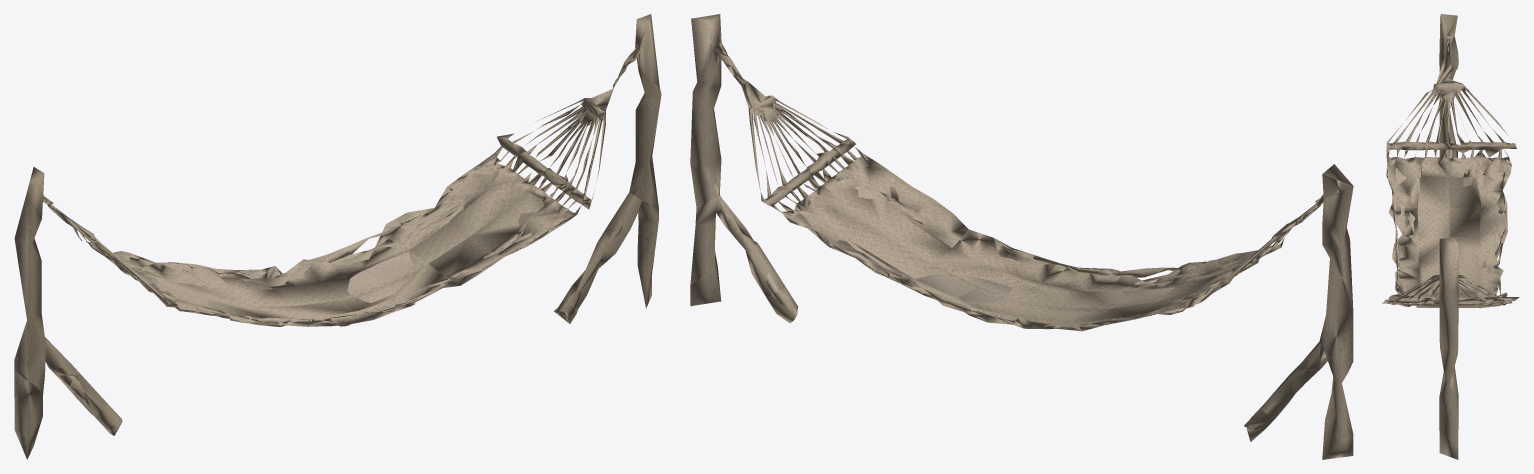
File: hammock_lod1.glb
3 views of the same model, side by side, from view 1: azimuth 30°, elevation 25°; view 2: azimuth 150°, elevation 25°; view 3: azimuth 270°, elevation 25° (orthographic). The views are drawn at different scales.
Visible parts, largest first — view 1: mesh_node; view 2: mesh_node; view 3: mesh_node.
Part boxes in pixels (x1,y1,x2,y2): mesh_node: (14, 14, 661, 459); mesh_node: (690, 14, 1353, 459); mesh_node: (1382, 14, 1519, 459).
Bounding box in the file's own units: 1.9 × 0.8112 × 0.4663.
1 material, 1 textured.
